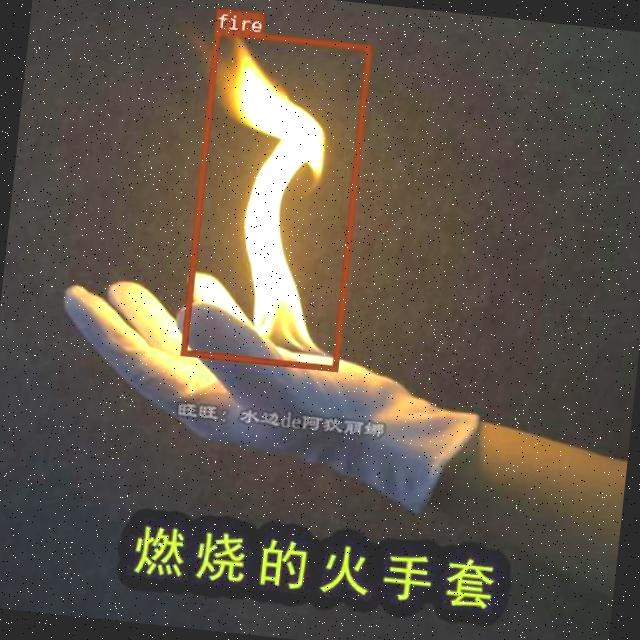fire: (179, 27, 370, 370)
